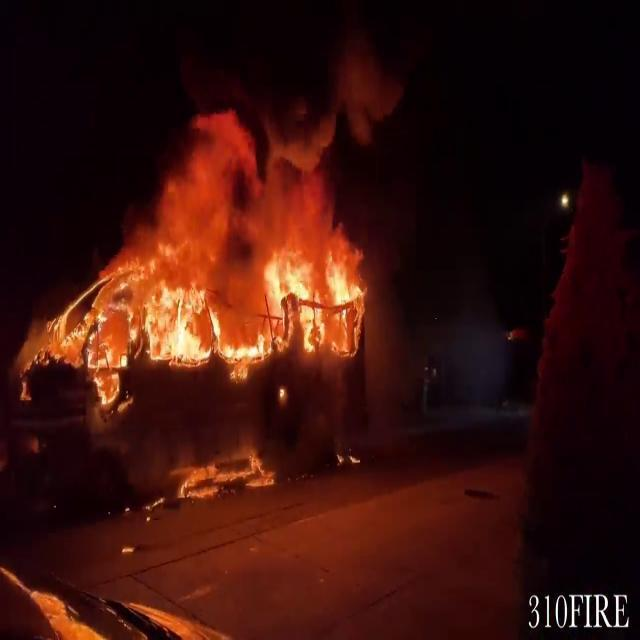Fire: (146, 220, 388, 374)
Smoke: (139, 2, 409, 270)
